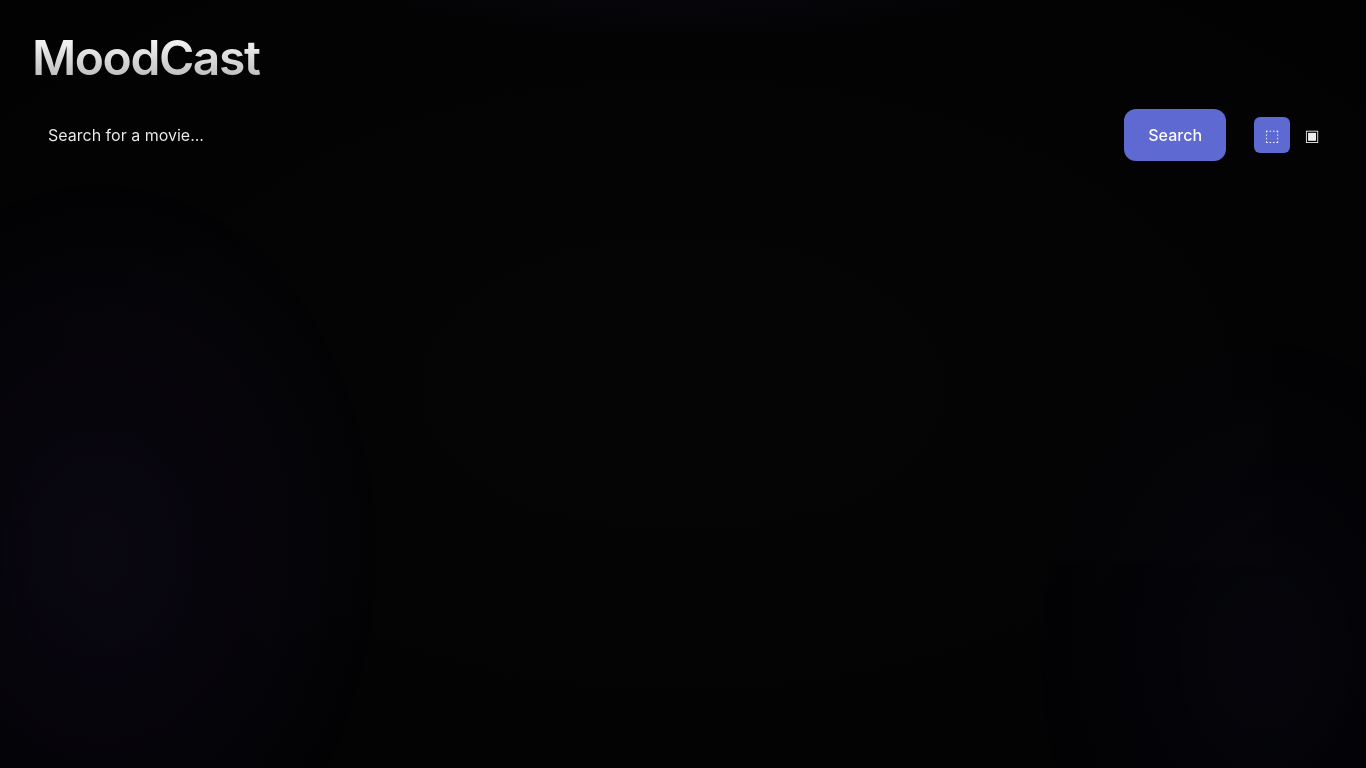
Test: App Component › searches when user presses Enter key
The width and height of the screenshot is (1366, 768).
Note: Find input and type search query
In the field with placeholder "Search for a movie...": (572, 135) x1=32 y1=109 x2=1112 y2=161, type "Batman"
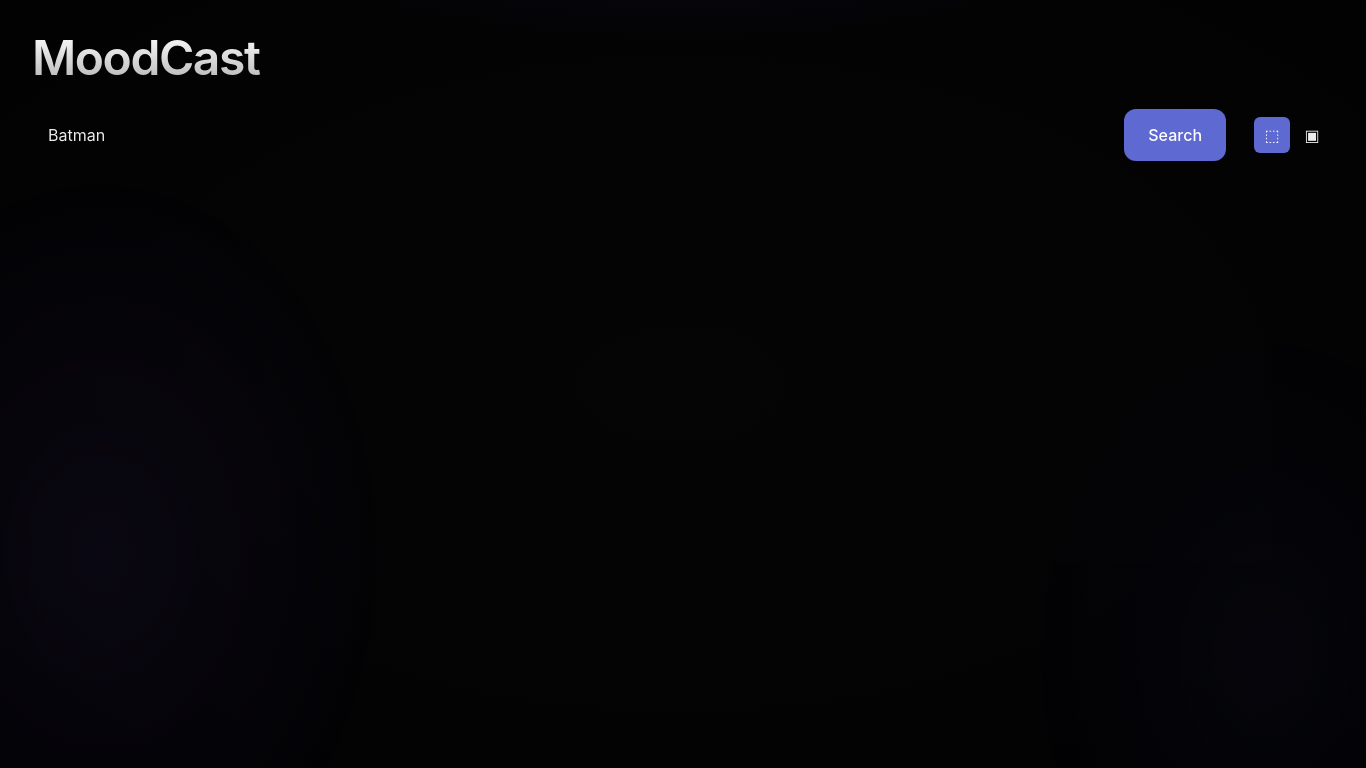
Note: Press Enter key instead of clicking button
Press Enter
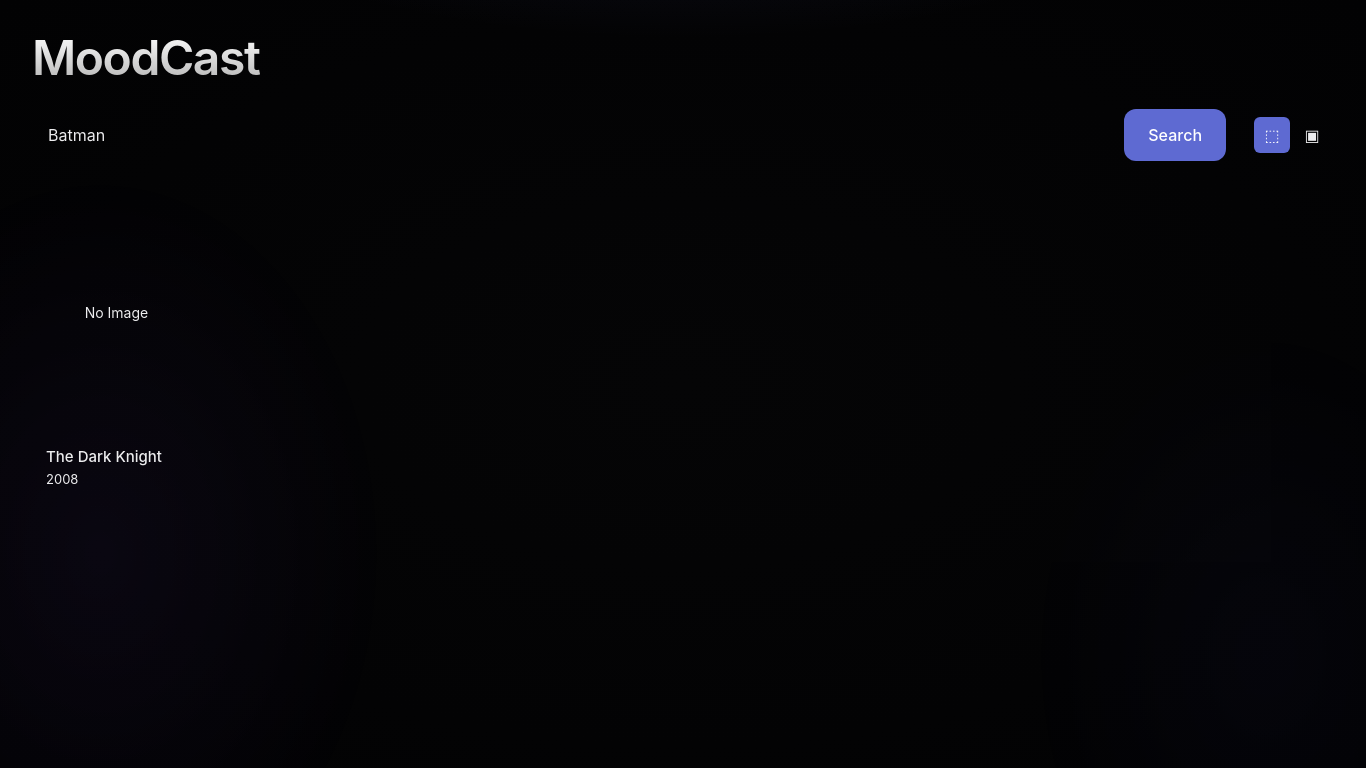
Check: the heading "The Dark Knight" is shown, box x1=46 y1=447 x2=162 y2=466
